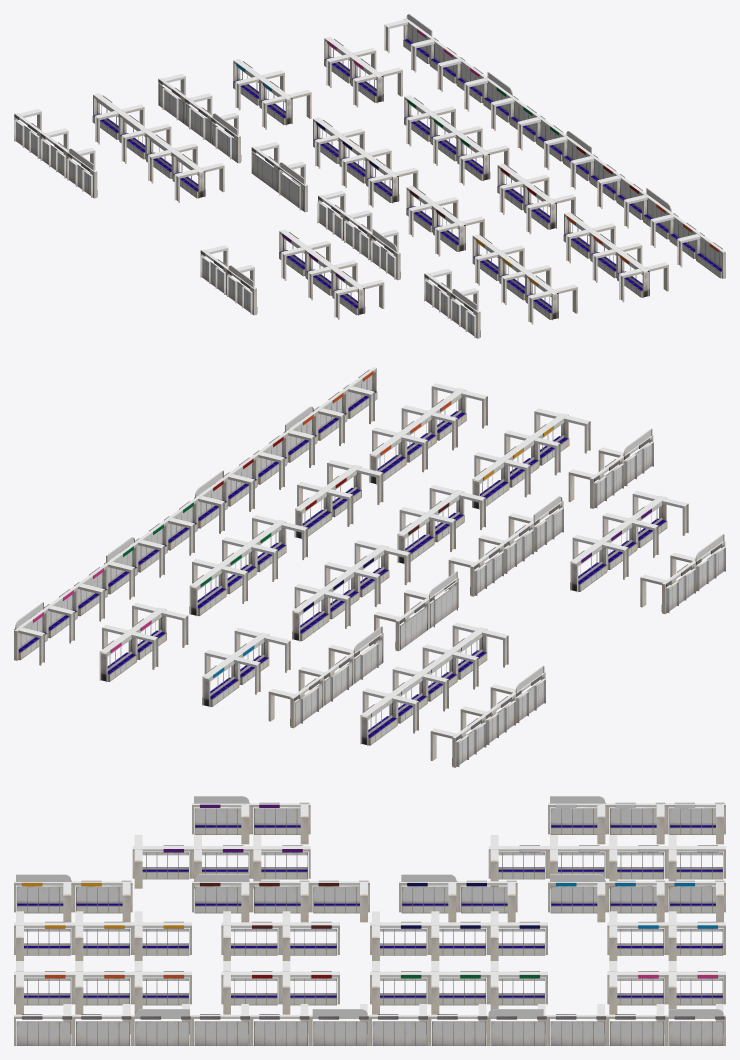
The model's file is WholeBooth.glb.
The picture shows the model from 3 angles, top to bottom: view 1: azimuth 30°, elevation 25°; view 2: azimuth 150°, elevation 25°; view 3: azimuth 270°, elevation 25°; orthographic projection. The views are drawn at different scales.
Parts seen in each view (by area): view 1: BoothSingle.019; view 2: BoothSingle.019; view 3: BoothSingle.019.
Part boxes in pixels (left/top/right/bottom): BoothSingle.019: left=14, top=14, right=725, bottom=338; BoothSingle.019: left=14, top=367, right=725, bottom=767; BoothSingle.019: left=14, top=796, right=725, bottom=1045.
Size of the model in its own units: 47.03 by 3.73 by 65.93.
1 material, 1 textured.
